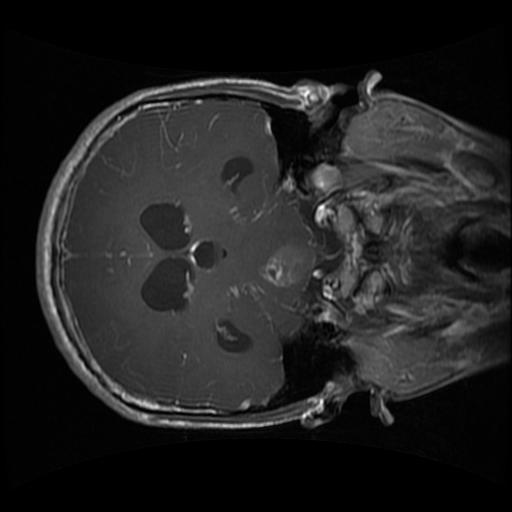glioma: (256, 243, 315, 286)
